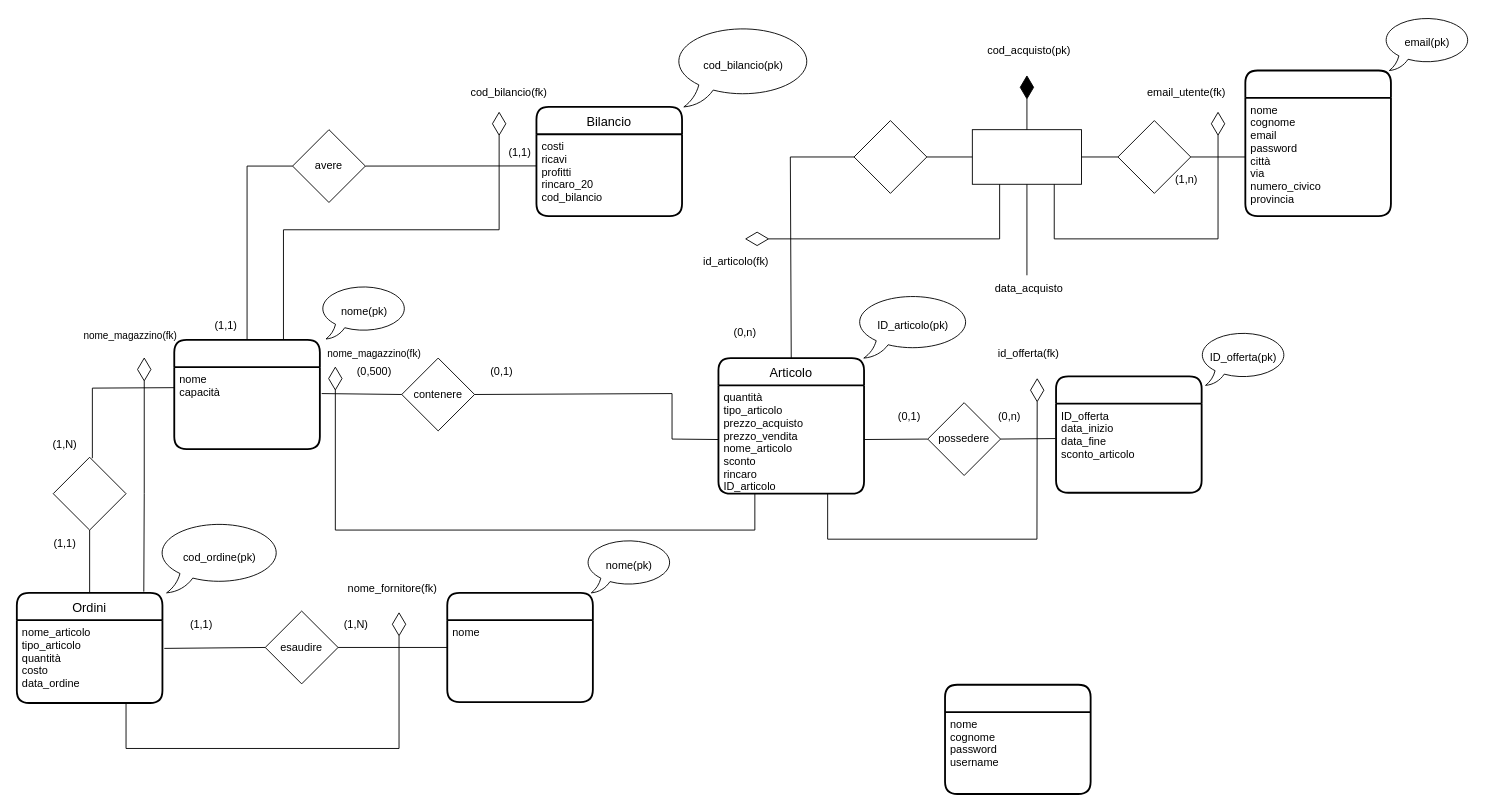
The diagram is 1489 pixels wide and 811 high, and some of its shapes have lost their labels. The shapes that lost their labels are listed below. From the top down, each one's box as (x1, y1, x2, y2) in pixels, then its label:
(971, 129, 1082, 184): acquistare
(1244, 69, 1391, 217): Utenti
(173, 339, 320, 450): Magazzino
(1055, 375, 1202, 493): Offerte
(52, 456, 126, 530): effettuare
(446, 592, 593, 703): Fornitori
(944, 683, 1091, 794): Dipendenti
